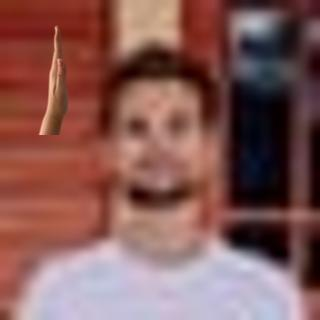Right: (31, 16, 89, 143)
